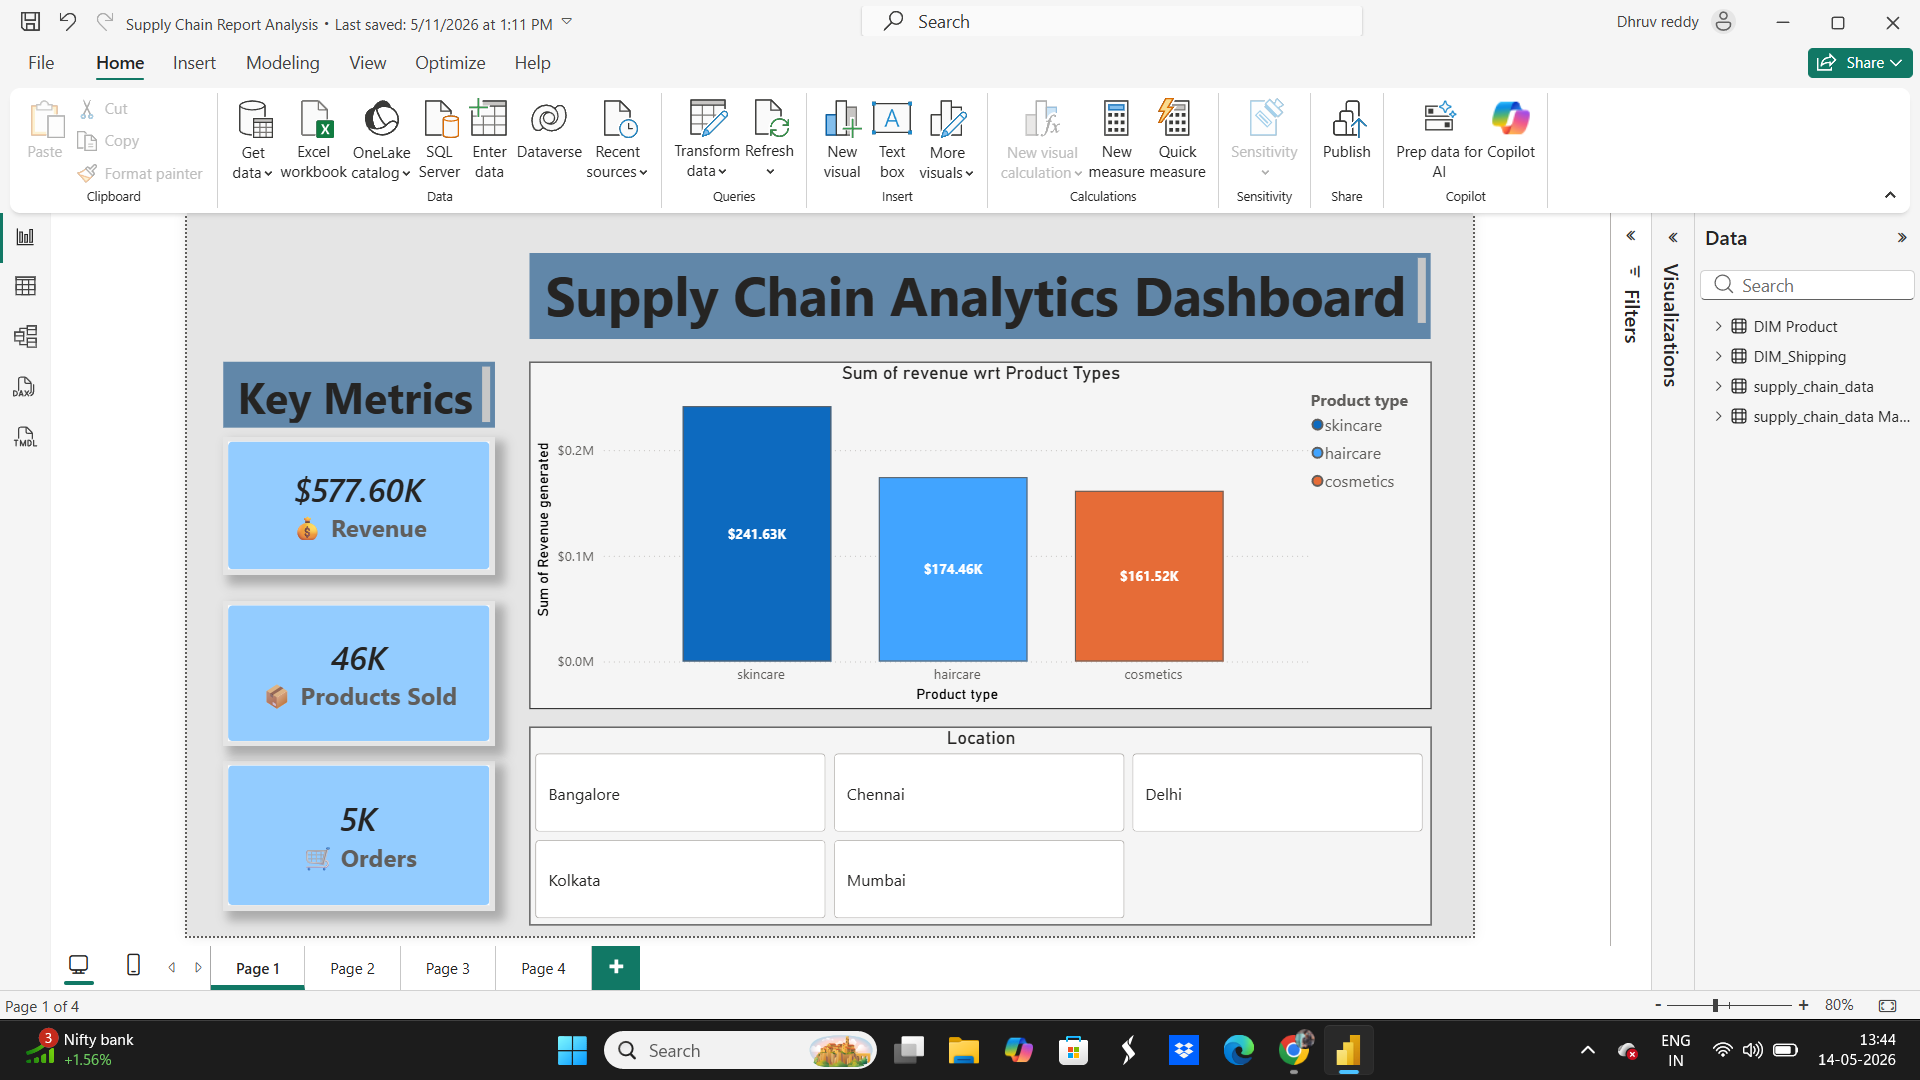

Layout of this report page (visuals, bound fields, positions):
{"tool":"powerbi","page":{"name":"Page 1","canvas":[1280,720],"ordinal":0},"visuals":[{"type":"cardVisual","fields":{"Data":["supply_chain_data.Total Revenue"]},"box":[35.9,222.9,270.7,137.6],"z":0},{"type":"textbox","box":[387.4,26.9,806.2,98.7],"z":1000},{"type":"textbox","box":[35.9,148.1,270.7,65.8],"z":2000},{"type":"cardVisual","fields":{"Data":["supply_chain_data.Total Products Sold"]},"box":[35.9,385.9,270.7,145.1],"z":3000},{"type":"cardVisual","fields":{"Data":["Sum(supply_chain_data.Order quantities)"]},"box":[35.9,544.4,270.7,149.6],"z":4000},{"type":"columnChart","title":"Sum of revenue wrt Product Types","fields":{"Category":["supply_chain_data.Product type"],"Y":["Sum(supply_chain_data.Revenue generated)"],"Series":["supply_chain_data.Product type"]},"box":[341,148.1,897.4,345.5],"z":5000},{"type":"advancedSlicerVisual","fields":{"Values":["supply_chain_data.Location"]},"box":[341,511.5,897.4,197.4],"z":6000}]}

Visuals, with their boxes on the page's 1280x720 design canvas (x1, y1, x2, y2). These are canvas units, not pixel positions in the 1920x1080 screenshot, which may show the page scaled, cropped or inside an application window:
cardVisual - supply_chain_data.Total Revenue: x1=36 y1=223 x2=307 y2=360
textbox: x1=387 y1=27 x2=1194 y2=126
textbox: x1=36 y1=148 x2=307 y2=214
cardVisual - supply_chain_data.Total Products Sold: x1=36 y1=386 x2=307 y2=531
cardVisual - Sum(supply_chain_data.Order quantities): x1=36 y1=544 x2=307 y2=694
"Sum of revenue wrt Product Types" columnChart: x1=341 y1=148 x2=1238 y2=494
advancedSlicerVisual - supply_chain_data.Location: x1=341 y1=512 x2=1238 y2=709
